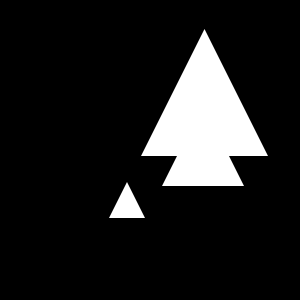triangle: (141, 29, 268, 156), (162, 104, 244, 186), (109, 182, 145, 218)
